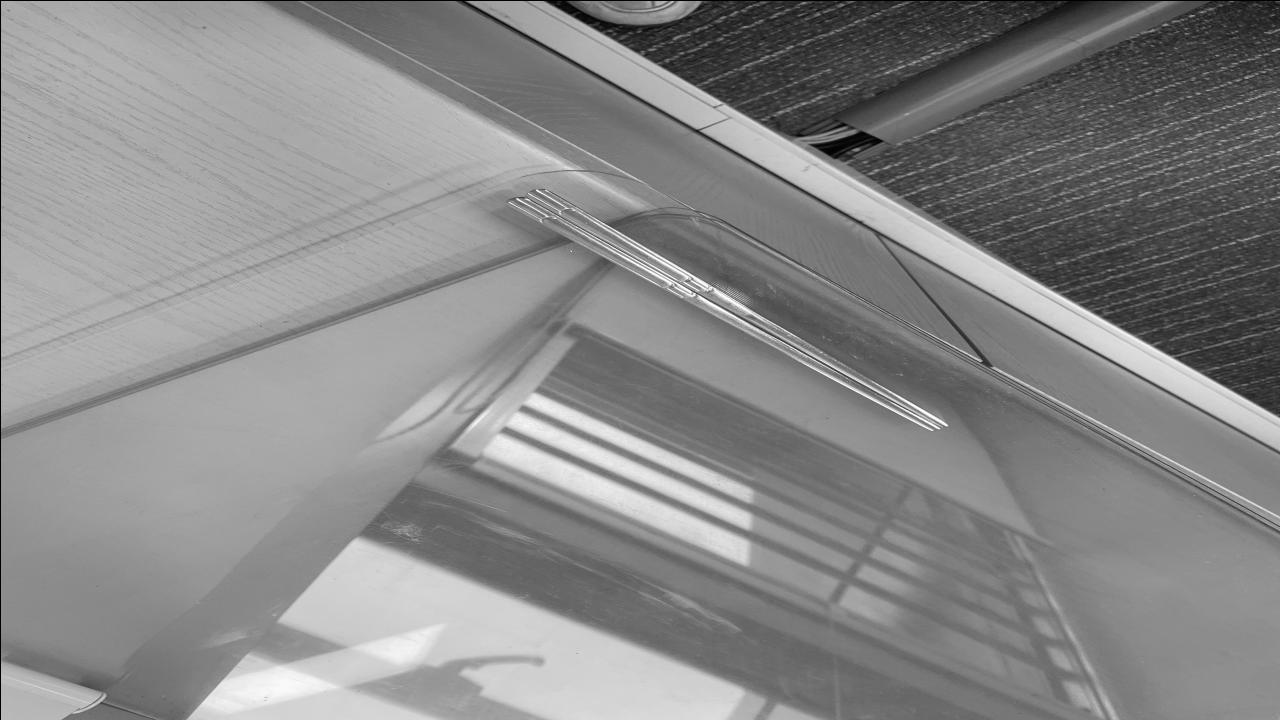chopstick: (499, 186, 954, 432)
